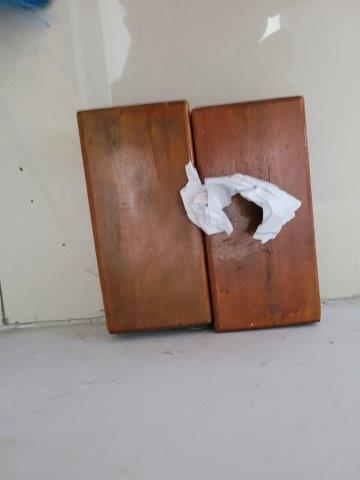kertas: (178, 160, 302, 243)
